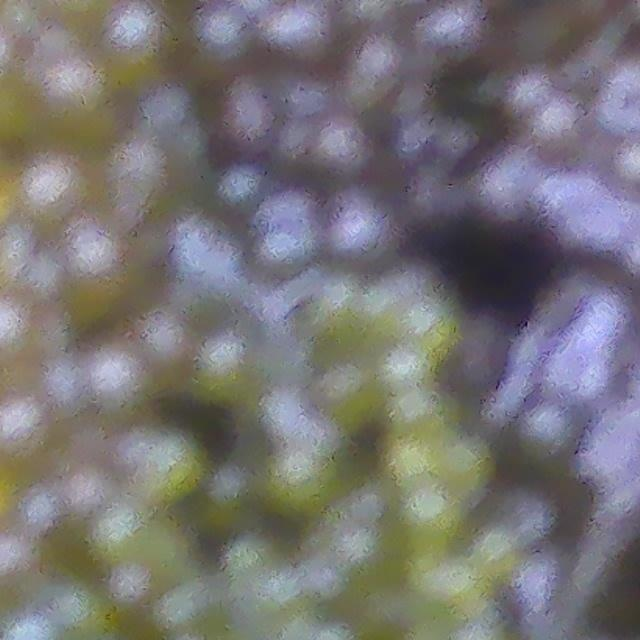SeaGrape: (343, 40, 424, 111), (426, 0, 495, 65), (309, 123, 374, 176), (268, 2, 324, 58)
